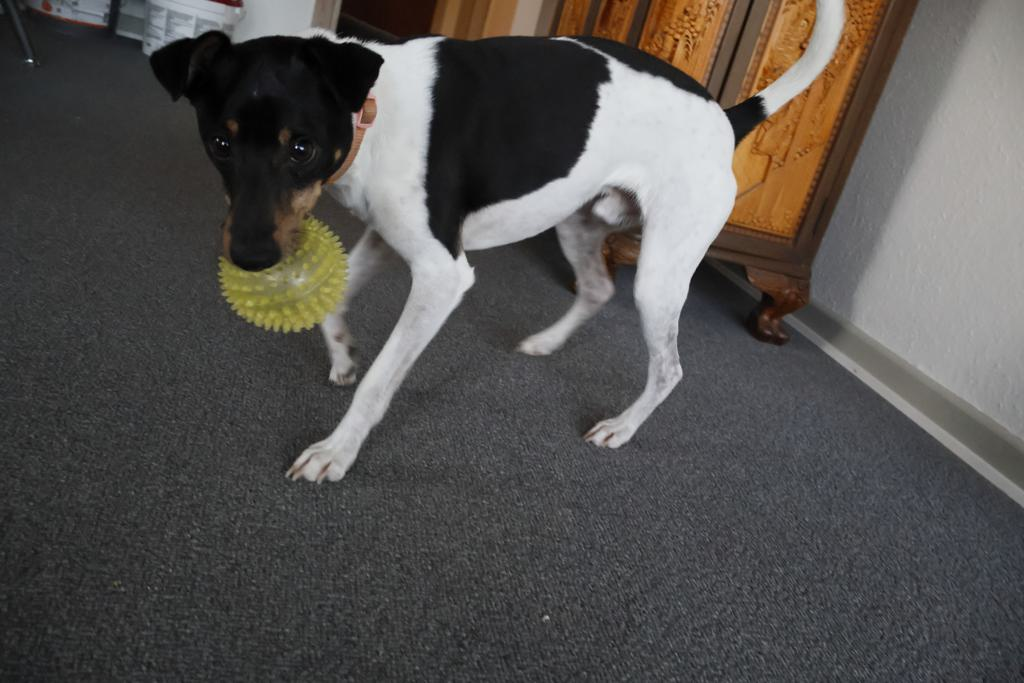Dog: (140, 0, 856, 496)
